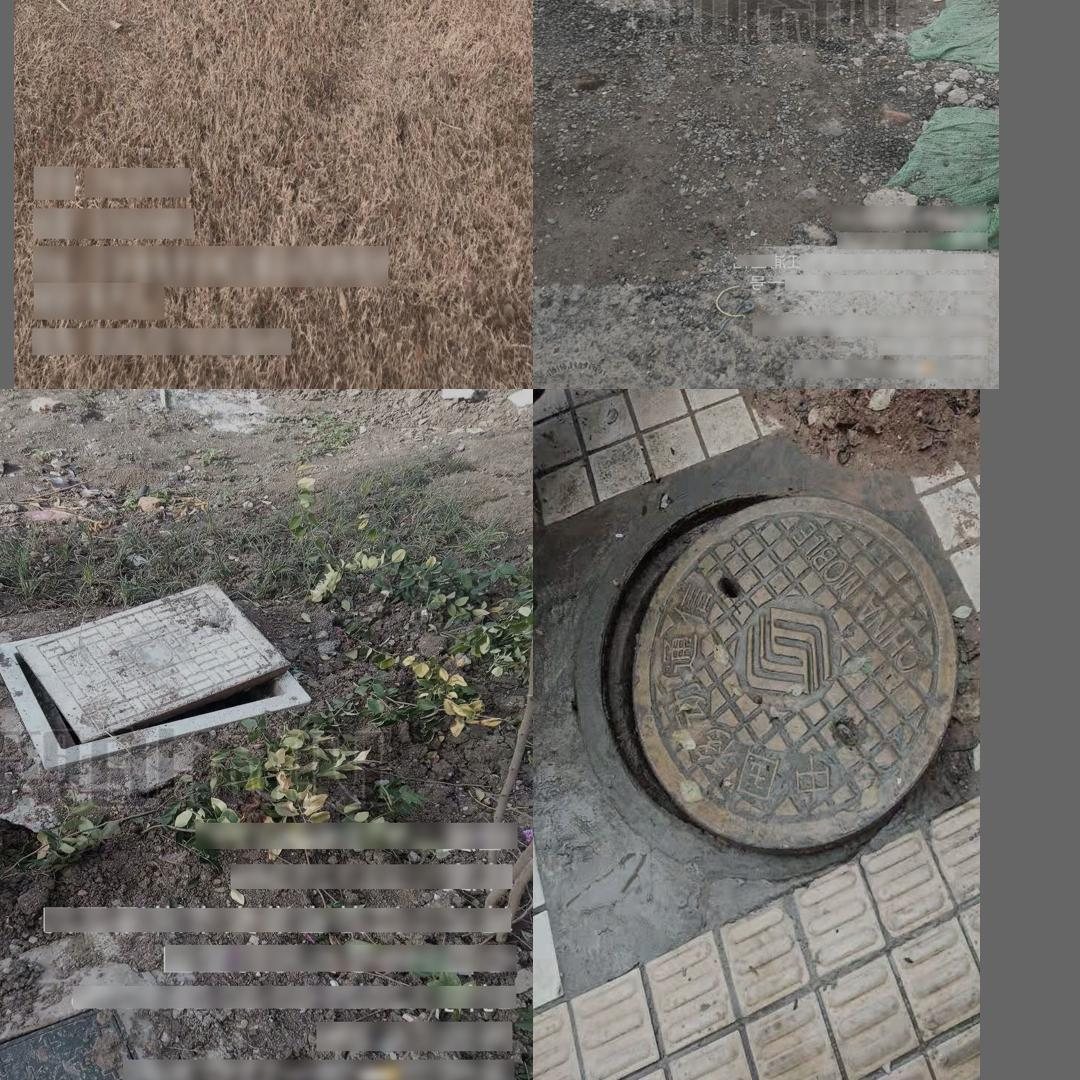uncovered: (573, 480, 955, 881), (0, 582, 314, 765)
